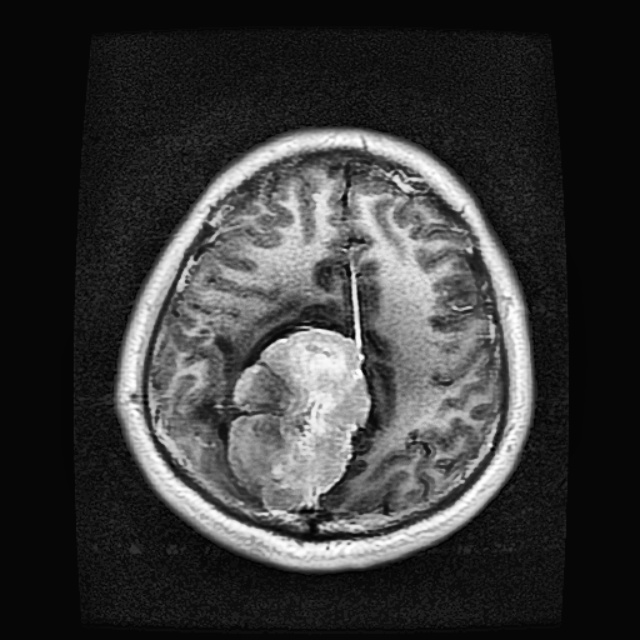Pituitary: (228, 327, 372, 508)
